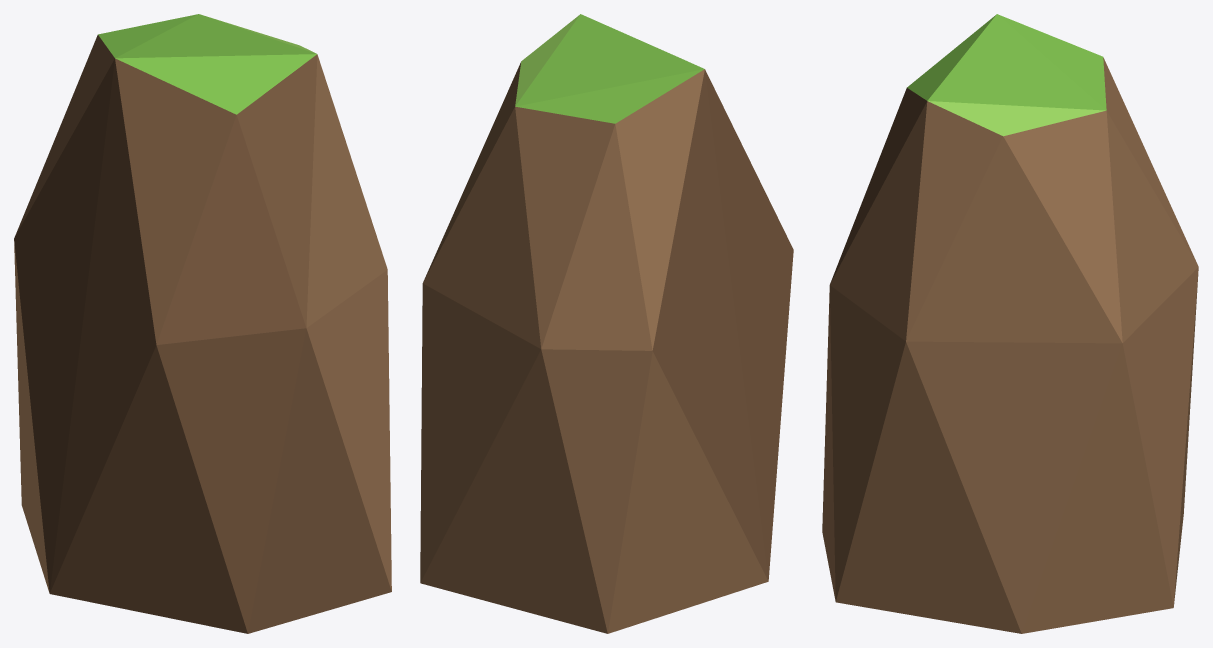
The model's file is rock_tallJ.glb.
3 views of the same model, side by side, from view 1: azimuth 30°, elevation 25°; view 2: azimuth 150°, elevation 25°; view 3: azimuth 270°, elevation 25° (orthographic). The views are drawn at different scales.
Visible parts, largest first — view 1: rock_tallJ; view 2: rock_tallJ; view 3: rock_tallJ.
Boxes of the visible parts, left/top/right/bottom form: rock_tallJ: left=14, top=14, right=391, bottom=633; rock_tallJ: left=420, top=14, right=793, bottom=633; rock_tallJ: left=822, top=14, right=1198, bottom=633.
Size of the model in its own units: 0.4047 by 0.6154 by 0.4216.
1 material, 1 textured.
